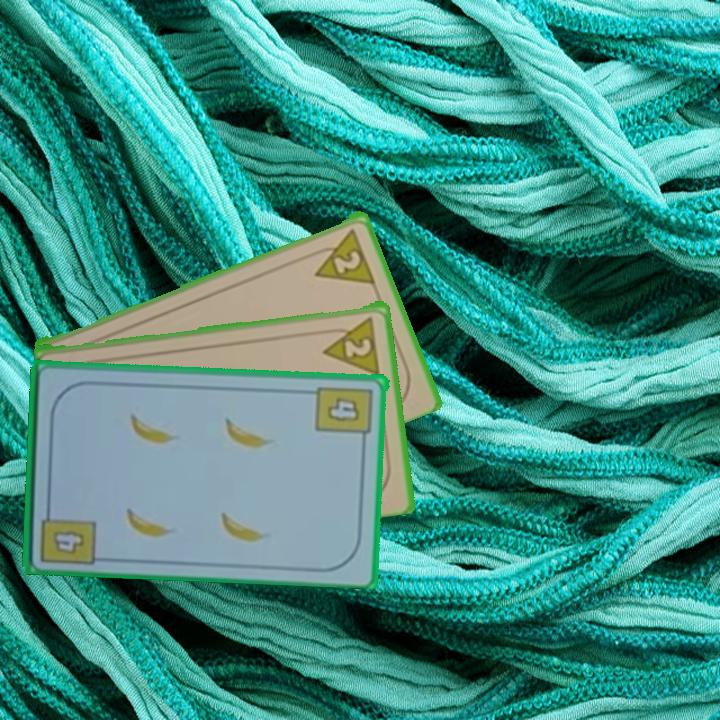2p: (305, 224, 378, 286), (318, 312, 383, 376)
4b: (36, 500, 98, 567), (313, 382, 376, 447)
